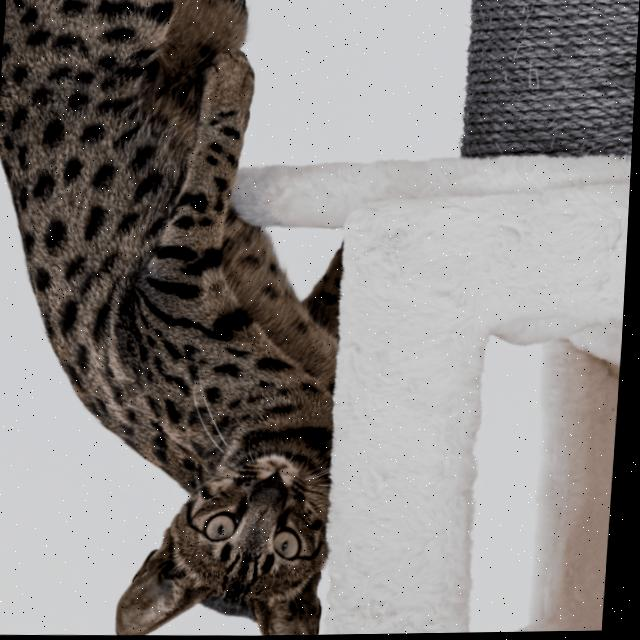Savannah: (0, 0, 370, 640)
